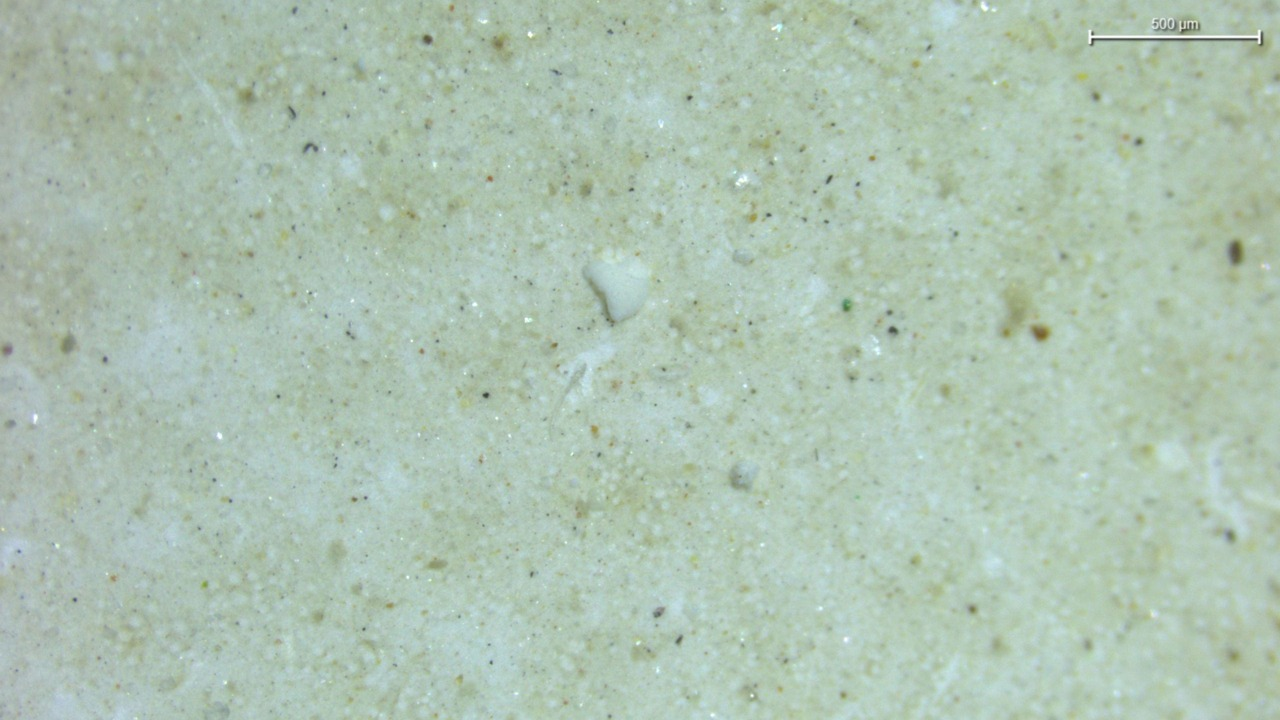microplastic_fragment: (584, 258, 650, 322), (729, 461, 759, 491)
